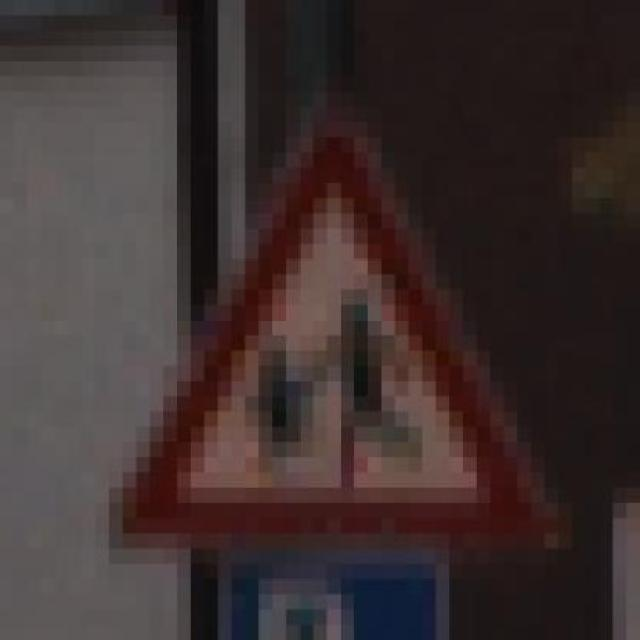Beware of children: (68, 107, 558, 564)
